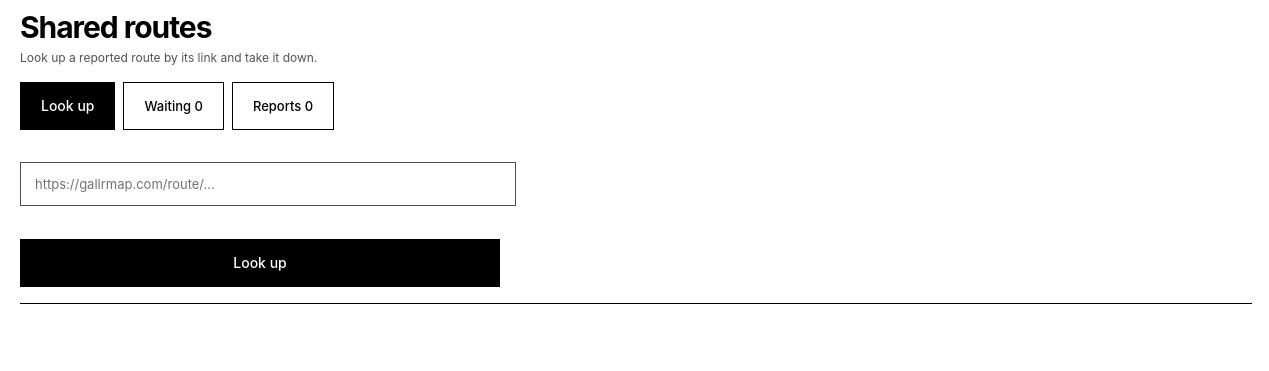
Test: route moderation workspace › explains an unreadable reference and an unknown route
This screenshot has width=1269, height=371.
Type "https://gallrmap.com/exhibitions/quiet-lines/" into the field named "Route link or ID" at (268,184), box [35,163,501,205]
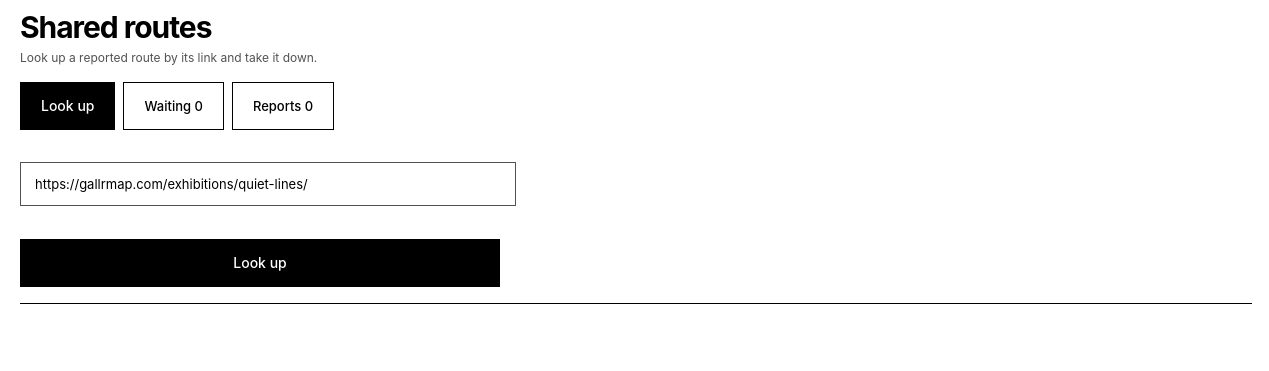
Click the button "Look up" at (260,263), box [20,239,500,287]
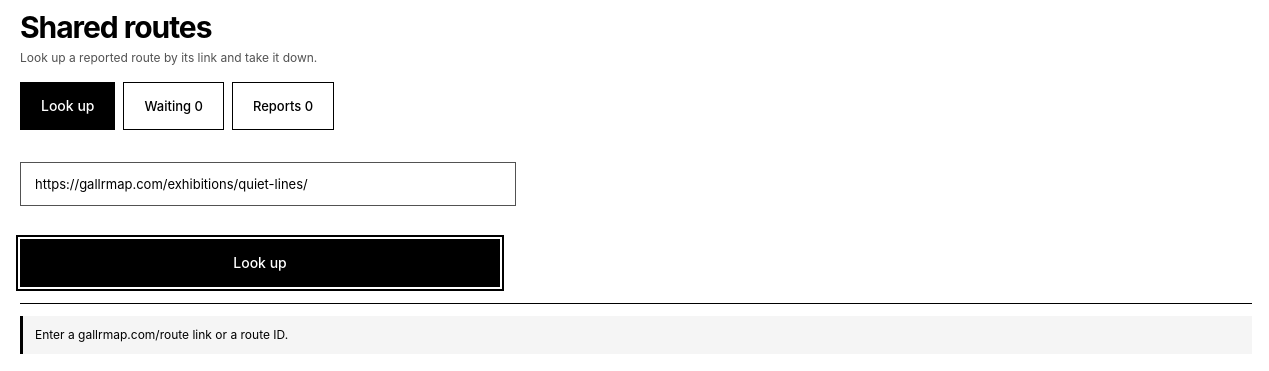
Now the text "Enter a gallrmap.com/route link or a route ID." is shown, box [35,327,288,342]
Replace the text in the field named "Route link or ID" with "6f1c2a7e-8d34-4b8e-9a51-2f0c7d1e9b10" at (268,184), box [35,163,501,205]
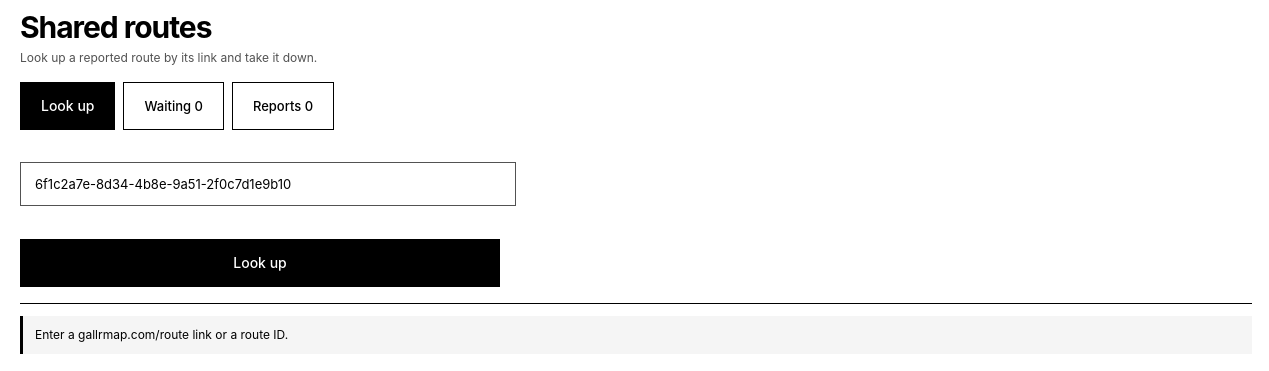
Click the button "Look up" at (260,263), box [20,239,500,287]
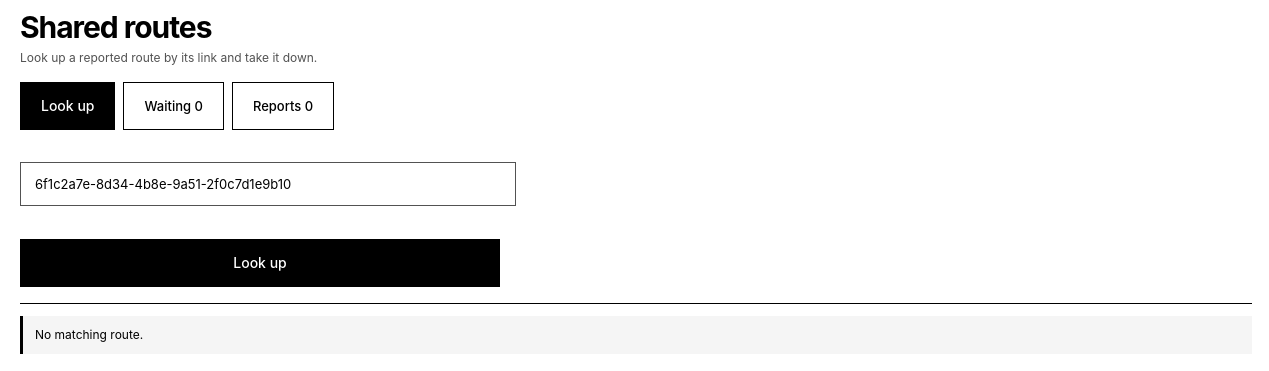
Now the text "No matching route." is shown, box [35,327,143,342]
